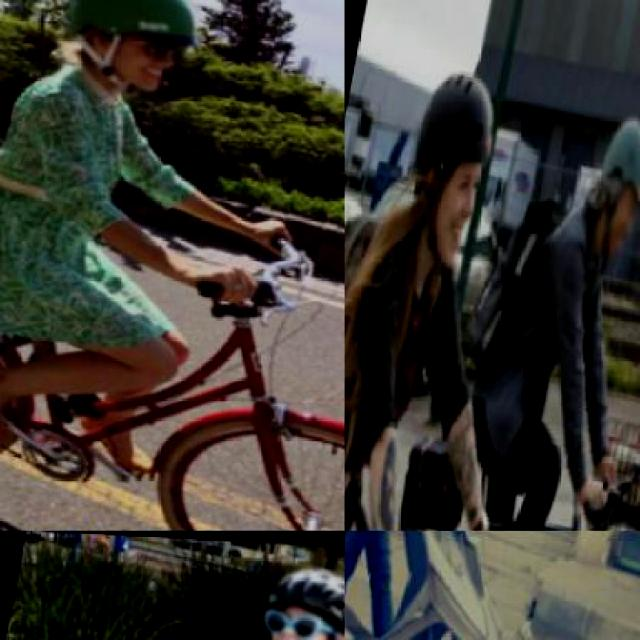With Helmet: (389, 53, 505, 275), (49, 0, 209, 106), (584, 88, 638, 266), (248, 551, 343, 638)
